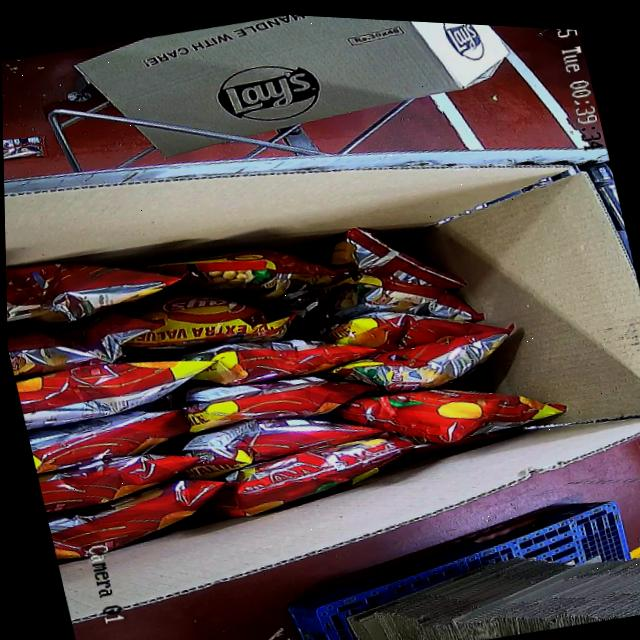MASALA: (4, 159, 583, 590)
